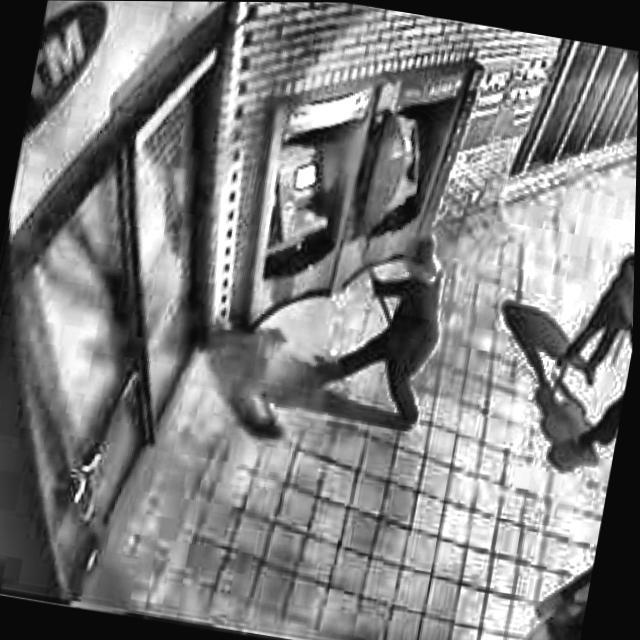Weapon: (318, 188, 476, 481)
